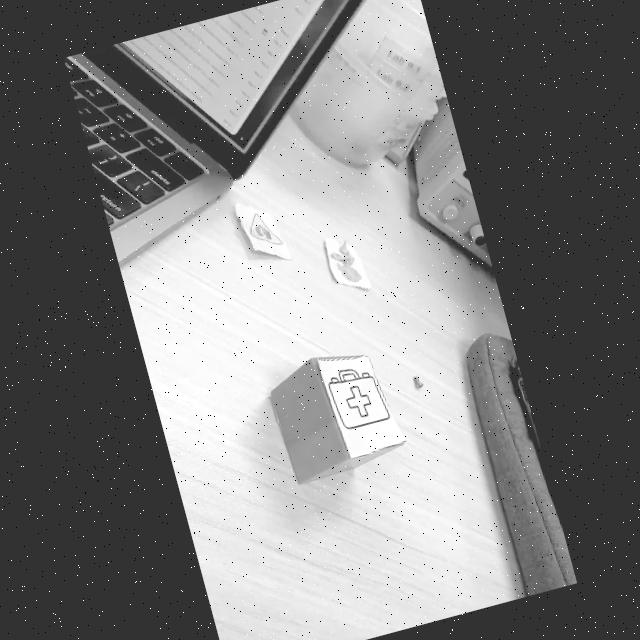Medkit: (328, 368, 389, 428)
